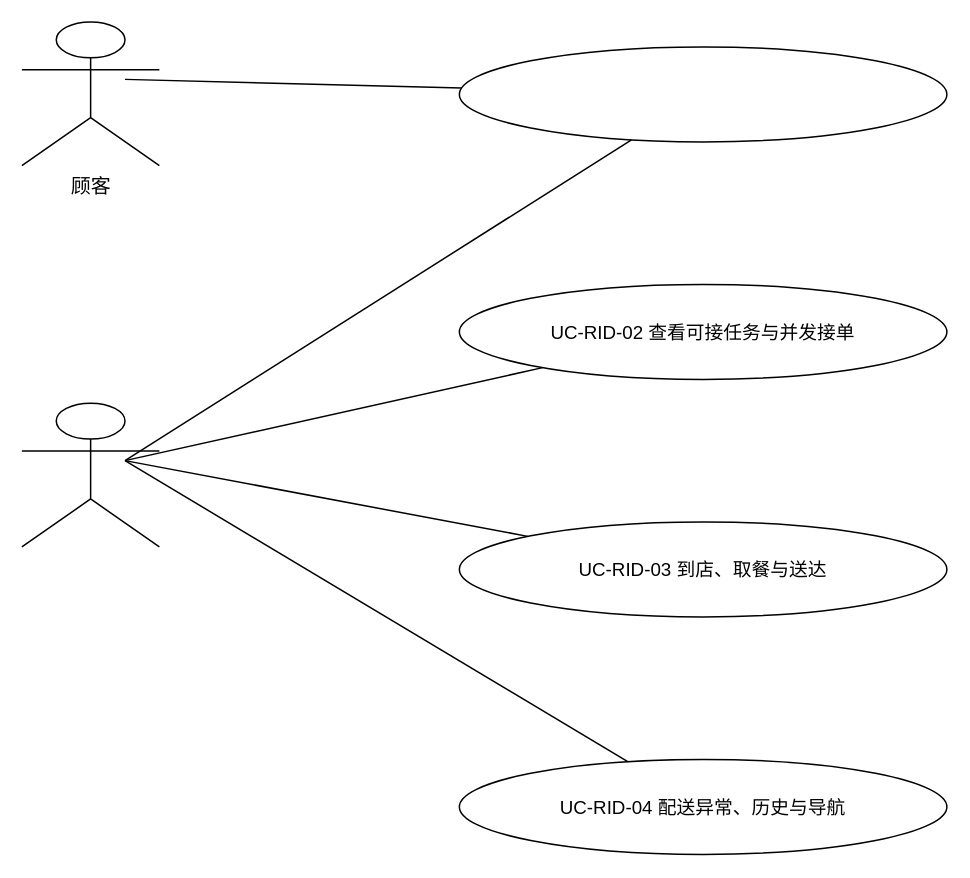
This 970x878 diagram has some shape labels left out. The shapes that lost their labels are listed below. From the top down, each one's centre as x and y in pixels, then its label:
At point (702, 94): "UC-RID-01 骑手申请与工作状态".
At point (90, 474): "骑手".
